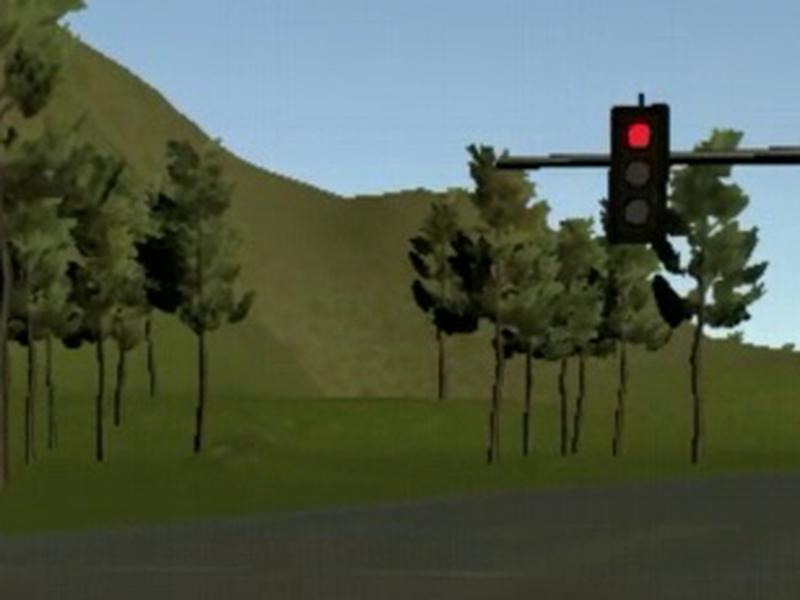Red: (608, 103, 669, 244)
